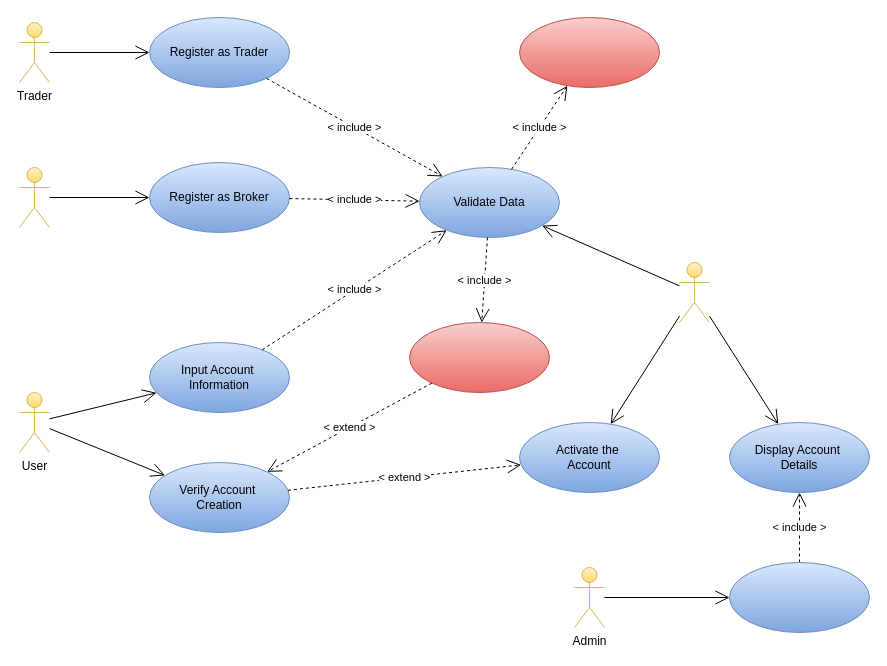
The diagram is 887 pixels wide and 666 high, and some of its shapes have lost their labels. The box of each missing label's shape, as (x1, y1, x2, y2) in pixels:
Assign Role (Trader, Broker) to Account: (518, 16, 660, 88)
Broker: (18, 166, 50, 228)
Send Verification Email: (408, 322, 550, 392)
System: (678, 262, 710, 322)
View and Change Accounts and Permissions: (728, 562, 870, 632)
